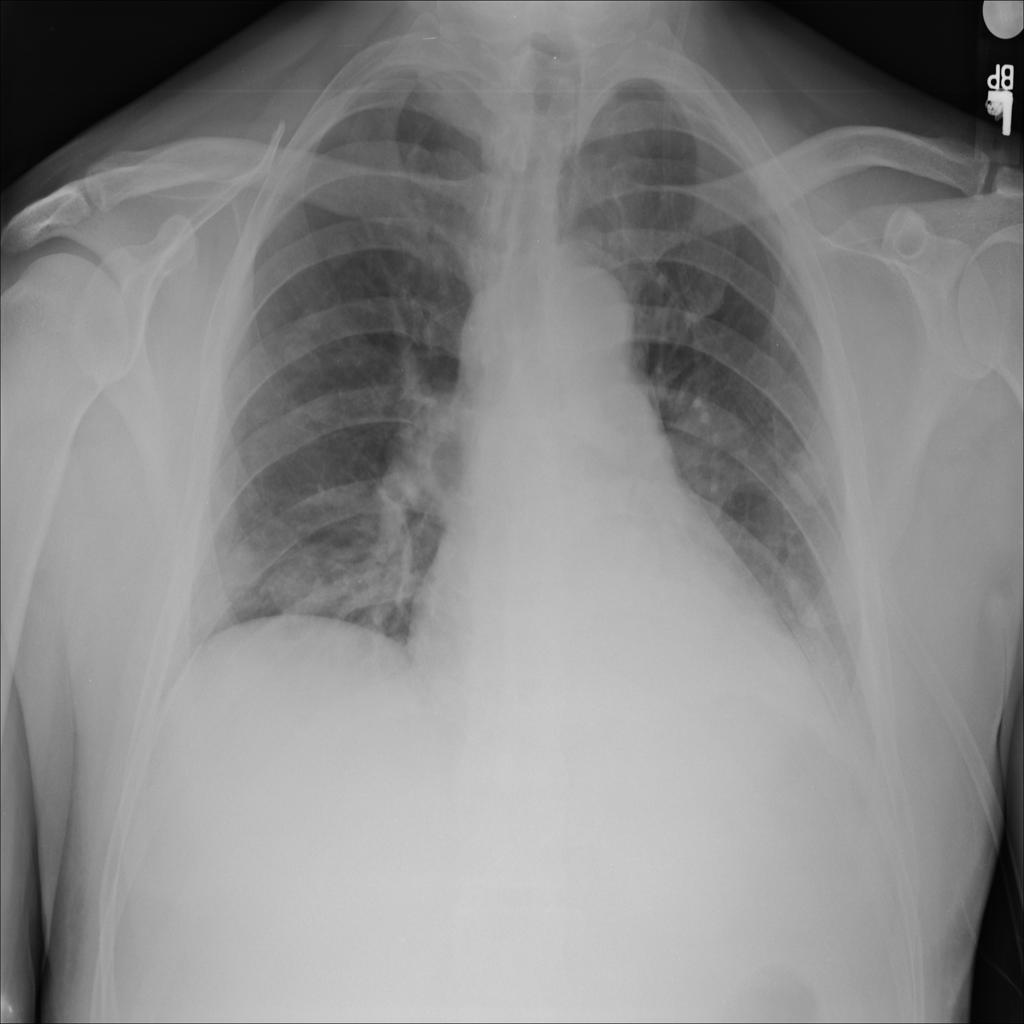nodule: (644, 394, 749, 521), (261, 551, 343, 627), (772, 558, 838, 645), (777, 429, 840, 517), (206, 529, 275, 604), (268, 309, 335, 383), (316, 222, 363, 277), (291, 373, 337, 426)
